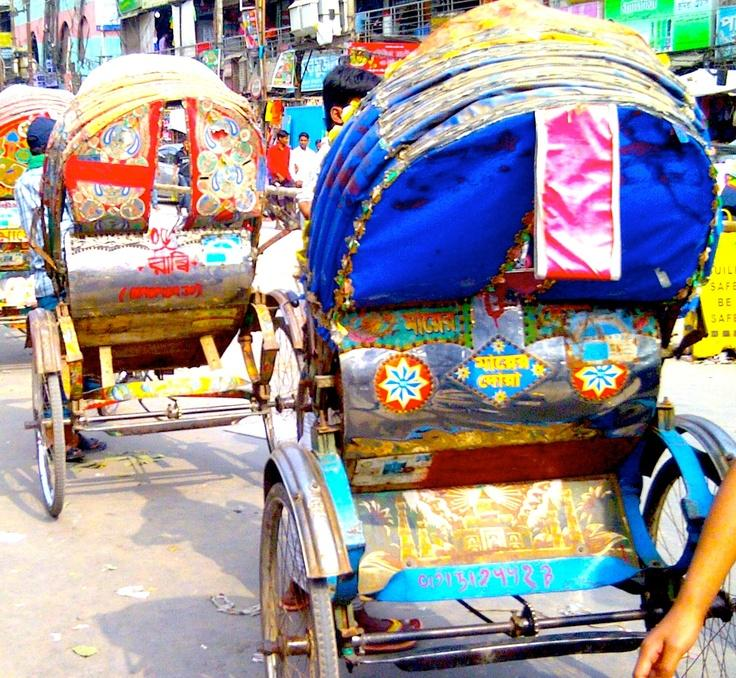Rickshaw: (256, 0, 735, 677), (27, 55, 287, 514), (0, 84, 72, 200)
